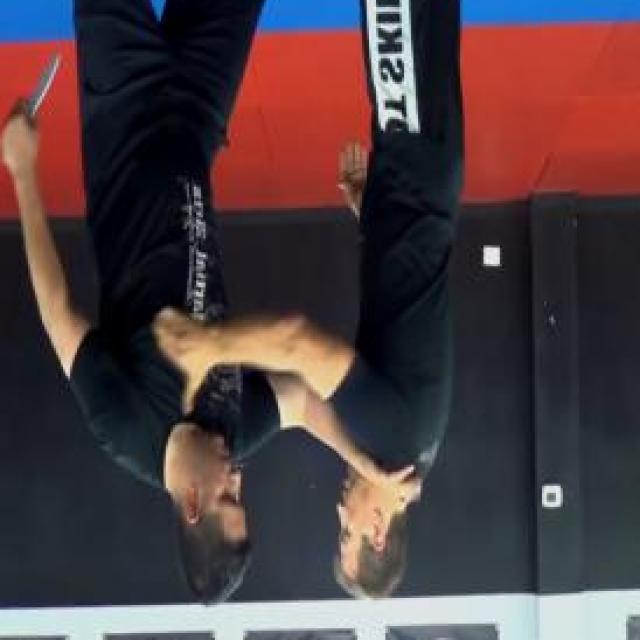knife: (0, 47, 63, 173)
